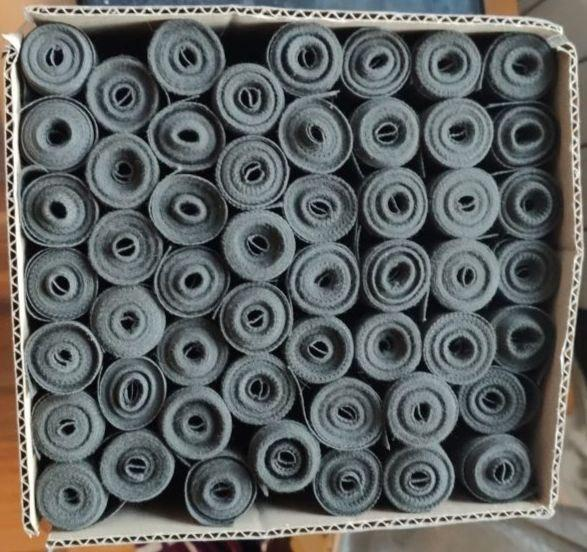roll: (88, 281, 170, 364), (18, 95, 100, 177), (24, 319, 105, 400), (275, 95, 355, 177), (146, 18, 226, 99), (305, 375, 386, 455), (146, 171, 230, 248), (157, 383, 237, 463), (22, 244, 100, 326), (86, 208, 166, 287), (28, 387, 108, 466), (381, 371, 460, 451), (20, 172, 99, 251), (420, 309, 499, 388), (83, 55, 161, 135), (84, 132, 162, 212), (97, 427, 177, 505), (147, 100, 229, 176), (425, 165, 503, 244), (219, 206, 298, 284), (426, 236, 503, 316), (418, 96, 496, 174), (19, 21, 96, 100), (153, 244, 232, 321), (245, 418, 322, 497), (266, 22, 344, 99), (285, 240, 362, 318), (349, 95, 425, 174), (357, 167, 433, 246), (219, 352, 298, 428), (95, 355, 170, 435), (454, 430, 534, 504), (281, 171, 359, 246), (359, 238, 433, 317), (155, 315, 233, 389), (218, 283, 295, 357), (379, 442, 457, 515), (410, 29, 485, 104), (282, 314, 357, 389), (212, 62, 287, 137), (216, 135, 291, 210), (351, 309, 425, 385), (182, 453, 258, 527), (481, 30, 555, 105), (34, 457, 110, 530), (457, 366, 531, 439), (340, 26, 412, 101), (309, 445, 384, 517), (485, 303, 555, 378), (494, 168, 562, 242), (488, 102, 559, 172), (491, 236, 559, 309)
